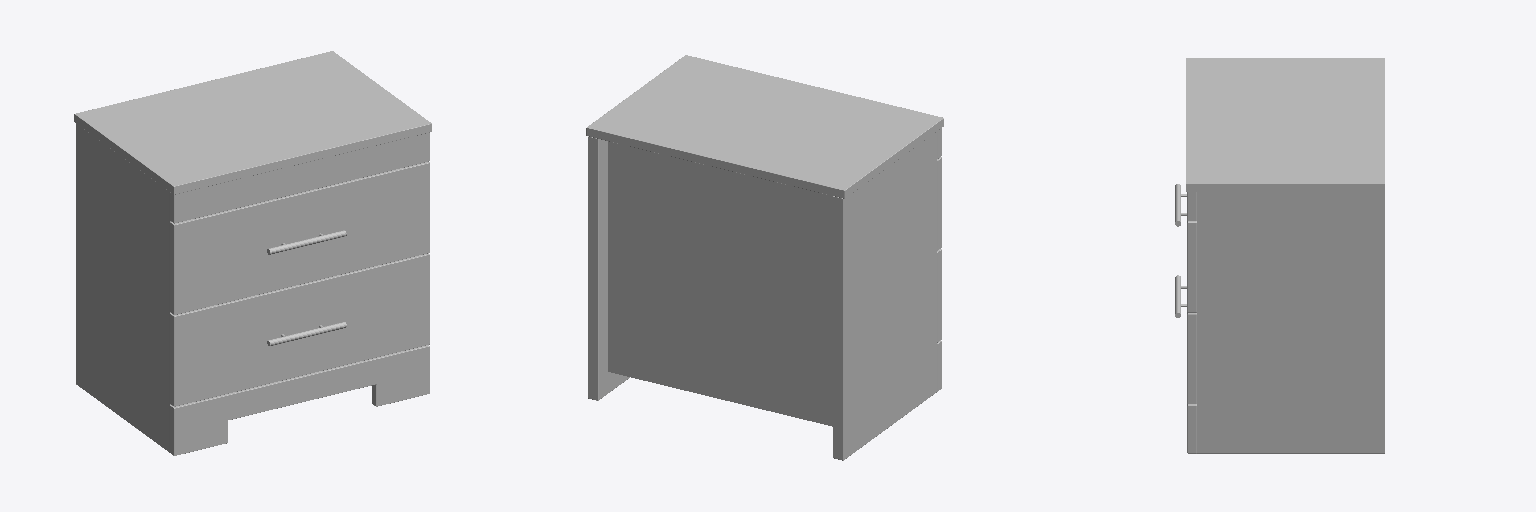
File: Nightstand.obj
The picture shows the model from 3 angles: view 1: azimuth 30°, elevation 25°; view 2: azimuth 150°, elevation 25°; view 3: azimuth 270°, elevation 25°; orthographic projection.
Parts seen in each view (by area): view 1: board_top_001, side_board_002, board_front_top_5_001, board_front_top_1_001, board_front_top_2_001, board_front_top_001; view 2: back_board_001, board_top_001, side_board_002, side_board_001; view 3: side_board_001, board_top_001, board_front_top_1_001, board_front_top_5_001.
Boxes of the visible parts, <box> form: board_top_001: <box>74,51,431,194</box>; side_board_002: <box>76,124,170,452</box>; board_front_top_5_001: <box>170,253,429,406</box>; board_front_top_1_001: <box>170,162,429,314</box>; board_front_top_2_001: <box>170,345,429,455</box>; board_front_top_001: <box>170,133,429,223</box>; back_board_001: <box>608,141,832,426</box>; board_top_001: <box>586,55,943,198</box>; side_board_002: <box>833,132,936,460</box>; side_board_001: <box>588,136,629,400</box>; side_board_001: <box>1197,192,1384,453</box>; board_top_001: <box>1186,58,1384,191</box>; board_front_top_1_001: <box>1187,221,1196,312</box>; board_front_top_5_001: <box>1187,312,1196,403</box>.
Bounding box in the file's own units: 24 × 24 × 16.88.